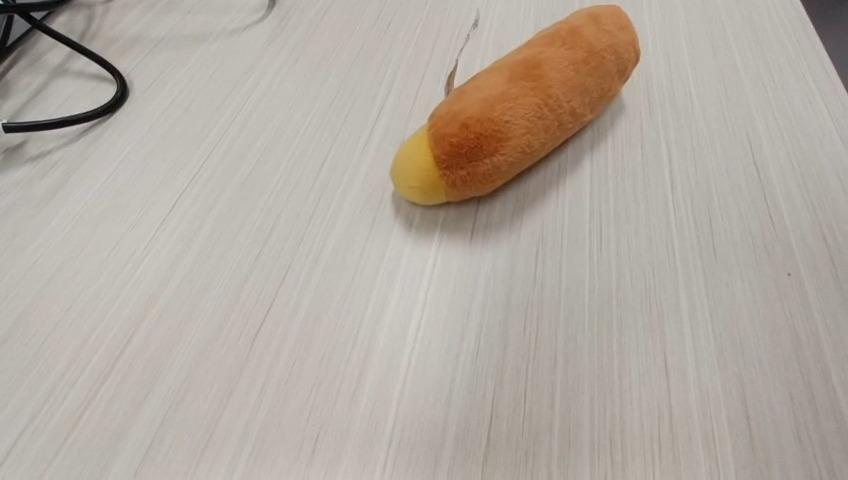hotdog: (388, 3, 641, 207)
